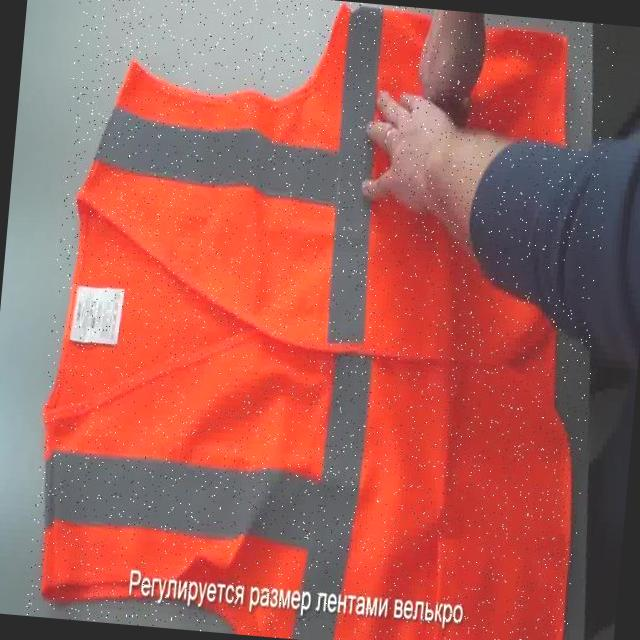vest: (24, 0, 621, 640)
